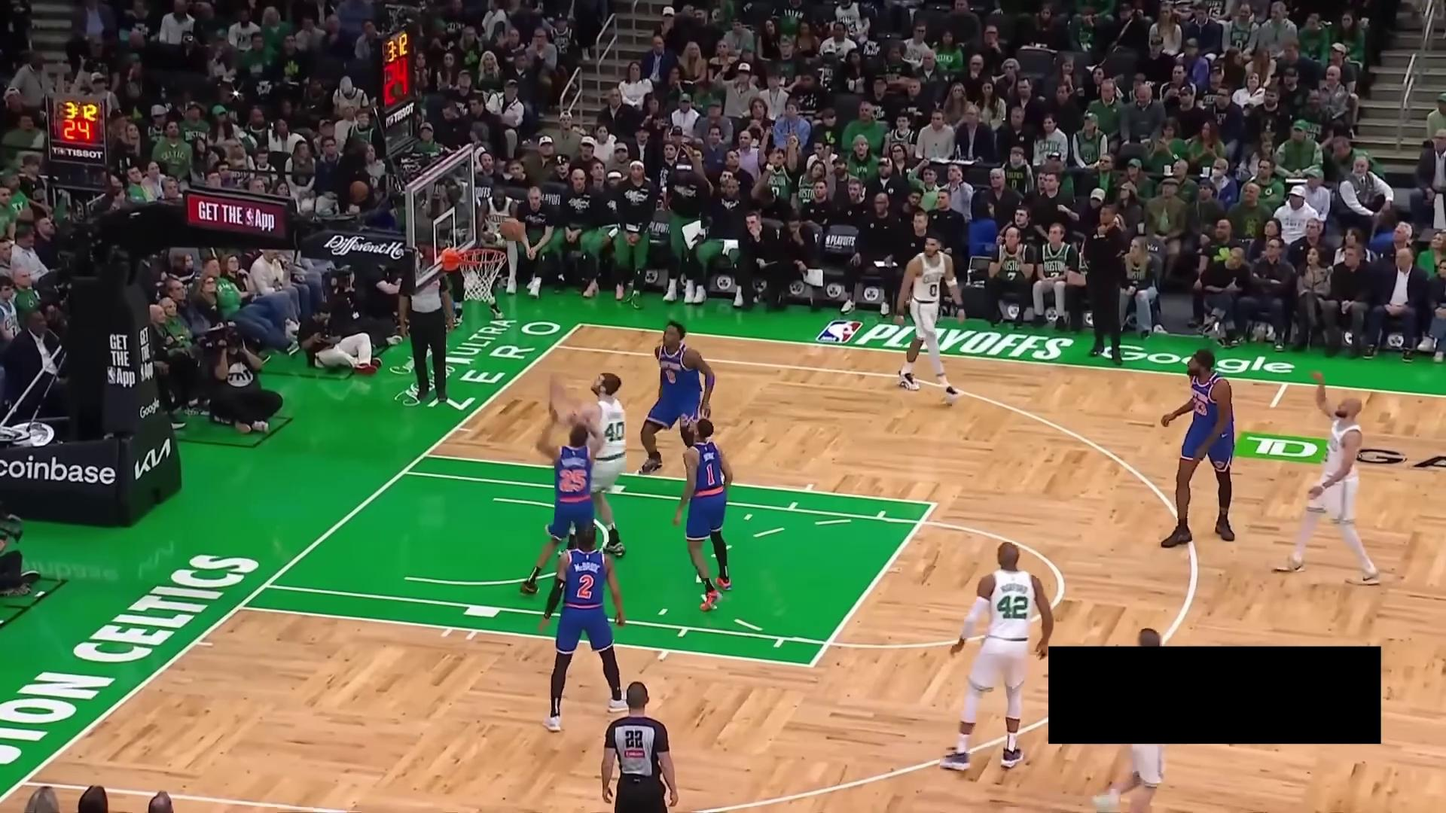ball: (499, 217, 526, 242)
number: (996, 593, 1028, 622), (558, 469, 587, 493), (576, 573, 596, 599), (603, 420, 626, 442), (1193, 397, 1208, 416), (706, 463, 715, 486), (665, 368, 676, 384), (929, 282, 938, 297)
player: (933, 536, 1054, 774), (1267, 373, 1386, 587), (539, 519, 640, 730), (1153, 346, 1244, 553), (515, 395, 608, 596), (546, 368, 634, 564), (1084, 626, 1167, 811), (669, 415, 740, 614), (633, 320, 720, 475), (894, 231, 969, 404)
referee: (595, 681, 679, 813), (396, 265, 458, 406)
rim: (457, 246, 512, 270)
